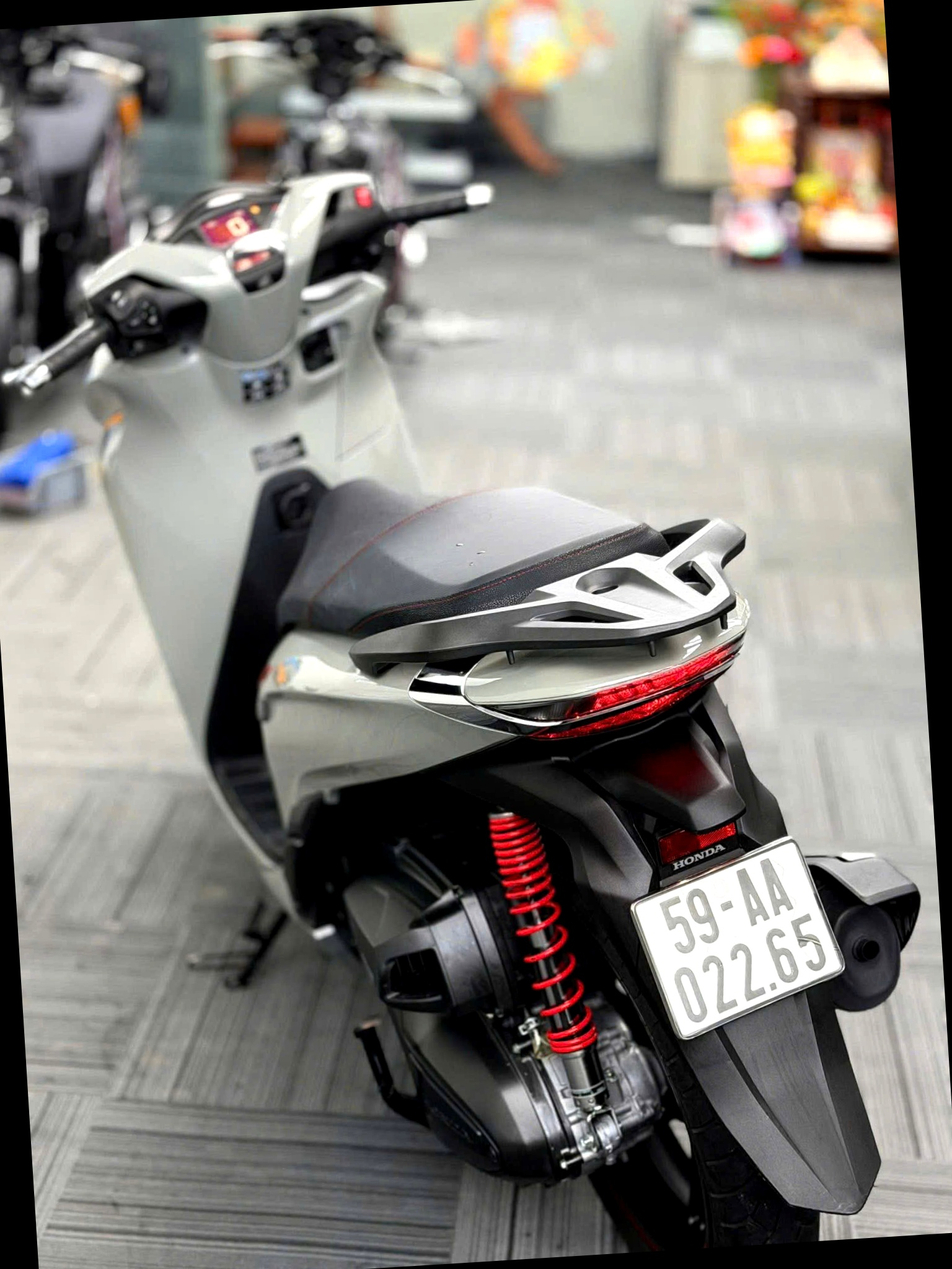Bien-so: (629, 827, 859, 1055)
